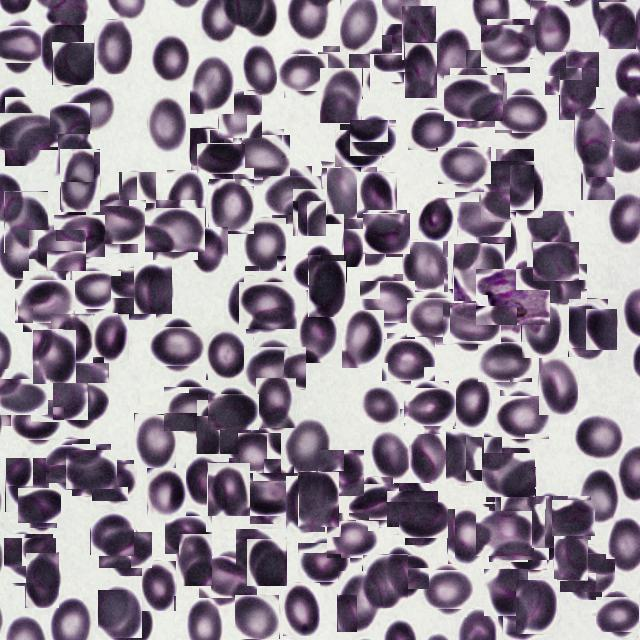red blood cell: (453, 243, 505, 301), (285, 416, 330, 481), (248, 342, 302, 396), (447, 71, 500, 124), (242, 278, 294, 332), (90, 196, 142, 249), (149, 204, 202, 256), (526, 210, 574, 267), (337, 570, 381, 632), (4, 191, 48, 253), (18, 276, 70, 328), (246, 468, 298, 520), (457, 188, 509, 240), (479, 507, 531, 559), (0, 104, 50, 158), (236, 132, 287, 184), (166, 384, 218, 434), (190, 55, 234, 114), (208, 178, 254, 234), (322, 161, 362, 224), (60, 149, 100, 212), (203, 552, 253, 602), (447, 298, 497, 348), (402, 238, 448, 292), (362, 554, 408, 608), (362, 278, 412, 327), (490, 155, 540, 204), (32, 227, 82, 276), (484, 450, 533, 500), (447, 506, 489, 564), (5, 457, 49, 512), (32, 329, 76, 384), (167, 170, 206, 232), (497, 393, 546, 442), (530, 0, 570, 60), (268, 170, 316, 220), (476, 212, 516, 272), (342, 311, 384, 368), (184, 457, 229, 510), (568, 298, 608, 357), (134, 413, 176, 469), (576, 469, 618, 525), (494, 467, 536, 523), (548, 49, 596, 98), (5, 536, 54, 584), (379, 29, 427, 78), (207, 462, 250, 516), (538, 357, 578, 415), (297, 305, 337, 363), (196, 399, 238, 454), (320, 68, 362, 123), (384, 336, 432, 384), (481, 338, 529, 386), (154, 322, 202, 370), (411, 293, 459, 341), (564, 548, 612, 596), (484, 22, 532, 70), (576, 413, 623, 462), (298, 471, 339, 527), (41, 25, 84, 78), (244, 218, 286, 272), (340, 0, 382, 54), (205, 326, 246, 380), (466, 50, 507, 104), (516, 580, 557, 634), (500, 90, 546, 138), (56, 212, 102, 260), (57, 378, 105, 424), (521, 300, 559, 358), (147, 96, 186, 152), (286, 476, 325, 532), (431, 29, 472, 82), (308, 260, 346, 317), (232, 429, 278, 476), (149, 31, 190, 83), (424, 567, 470, 613), (301, 539, 347, 585), (442, 142, 488, 188), (330, 516, 376, 562), (61, 361, 108, 406), (218, 90, 262, 138), (98, 590, 142, 638), (343, 218, 386, 267), (94, 19, 132, 74), (574, 109, 612, 164), (357, 172, 397, 224), (321, 50, 366, 96), (318, 451, 364, 496), (507, 520, 552, 566), (48, 442, 94, 487), (69, 447, 114, 493), (484, 569, 528, 616), (51, 314, 93, 363), (409, 430, 447, 484), (282, 582, 320, 636), (446, 432, 484, 486), (582, 140, 616, 200), (103, 527, 148, 572), (72, 268, 118, 312), (280, 50, 326, 94), (90, 512, 136, 556), (453, 376, 491, 429), (256, 378, 296, 428), (226, 273, 266, 323), (408, 385, 452, 430), (14, 398, 58, 443), (115, 272, 160, 316), (364, 211, 408, 256), (0, 374, 43, 420), (118, 171, 156, 223), (246, 538, 287, 586), (531, 495, 568, 548), (559, 67, 596, 120), (147, 468, 186, 518), (410, 108, 454, 152), (390, 487, 434, 531), (298, 250, 342, 294), (236, 528, 280, 572), (236, 595, 280, 639), (211, 390, 255, 434), (68, 88, 114, 130), (25, 552, 59, 608), (372, 430, 410, 480), (134, 264, 172, 314), (353, 480, 396, 524), (0, 22, 41, 68), (242, 44, 278, 96), (189, 227, 228, 275), (92, 313, 129, 363), (382, 550, 425, 593), (542, 262, 586, 304), (402, 498, 444, 542), (404, 42, 437, 98), (534, 240, 578, 282), (402, 6, 436, 60), (598, 1, 636, 49), (167, 514, 210, 556), (52, 42, 94, 85), (49, 104, 91, 147), (178, 533, 212, 586), (141, 560, 176, 611), (360, 384, 402, 426), (94, 462, 136, 504), (500, 594, 542, 636), (338, 128, 380, 170), (352, 118, 394, 160), (510, 165, 543, 218), (58, 134, 94, 182), (599, 593, 640, 635), (418, 198, 457, 241), (465, 436, 502, 481), (292, 188, 326, 236), (20, 486, 60, 526), (202, 138, 242, 178), (553, 498, 593, 538), (554, 536, 588, 582), (190, 128, 224, 171), (585, 308, 617, 350)
trophozoite: (481, 264, 546, 329)
